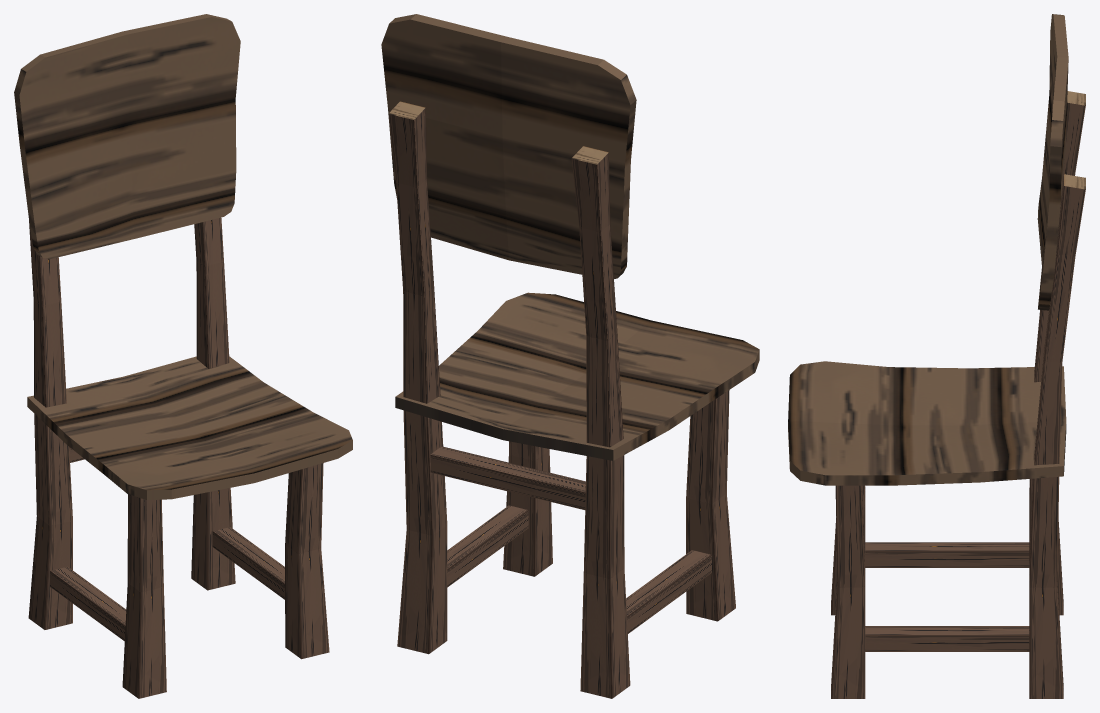
The model's file is furniture_chair_01.fbx.
3 renders of one model, left to right at view 1: azimuth 30°, elevation 25°; view 2: azimuth 150°, elevation 25°; view 3: azimuth 270°, elevation 25°, orthographic. The views are drawn at different scales.
Visible parts, largest first — view 1: furniture_chair_01; view 2: furniture_chair_01; view 3: furniture_chair_01.
Part boxes in pixels (x1,y1,x2,y2): furniture_chair_01: [14, 14, 352, 698]; furniture_chair_01: [381, 14, 759, 698]; furniture_chair_01: [788, 14, 1085, 698].
Bounding box in the file's own units: 0.5477 × 1.32 × 0.601.
Materials: 1 (1 with a texture image).
